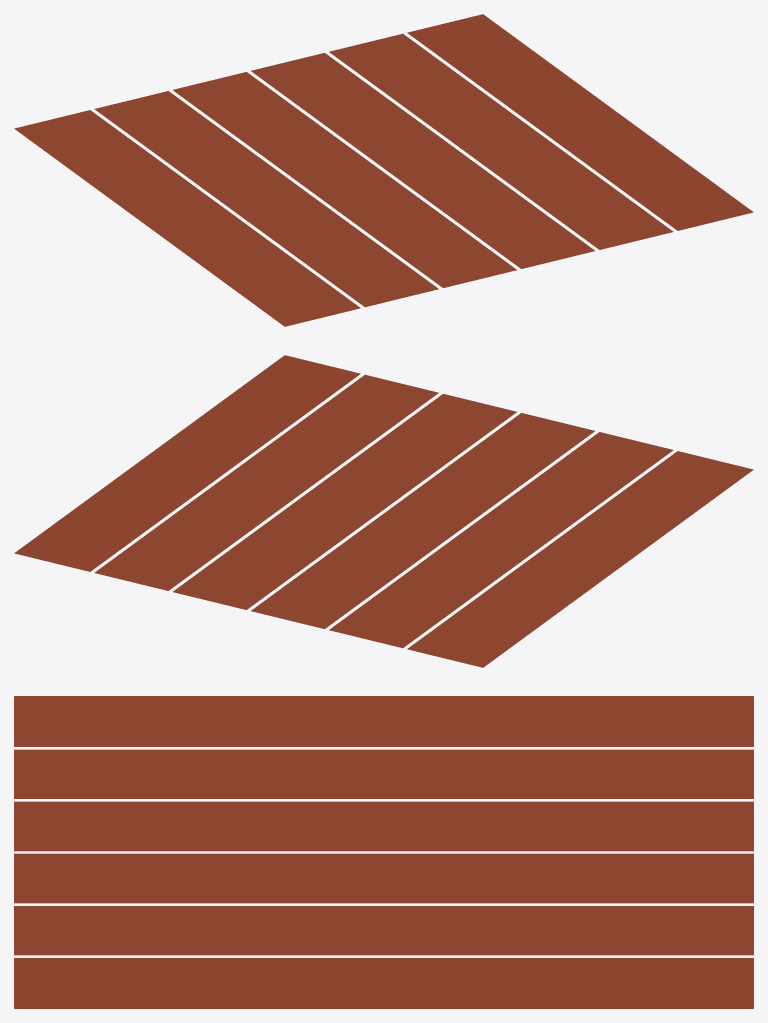
File: wall_006.glb
3 renders of one model, top to bottom at view 1: azimuth 30°, elevation 25°; view 2: azimuth 150°, elevation 25°; view 3: azimuth 270°, elevation 25°, orthographic. The views are drawn at different scales.
Parts seen in each view (by area): view 1: wall_006; view 2: wall_006; view 3: wall_006.
Boxes of the visible parts, x1,y1,x2,y2 form: wall_006: (14,14,753,326); wall_006: (14,355,753,667); wall_006: (14,696,753,1008).
Size of the model in its own units: 4 by 6.54e-07 by 4.
1 material, 1 textured.
